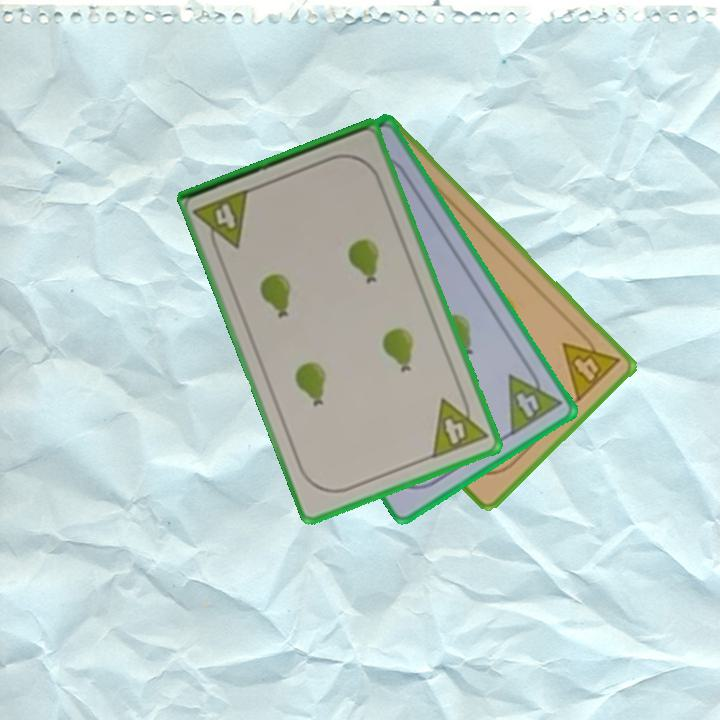4p: (558, 324, 624, 405), (504, 360, 565, 439), (428, 388, 491, 462), (191, 185, 254, 257)
